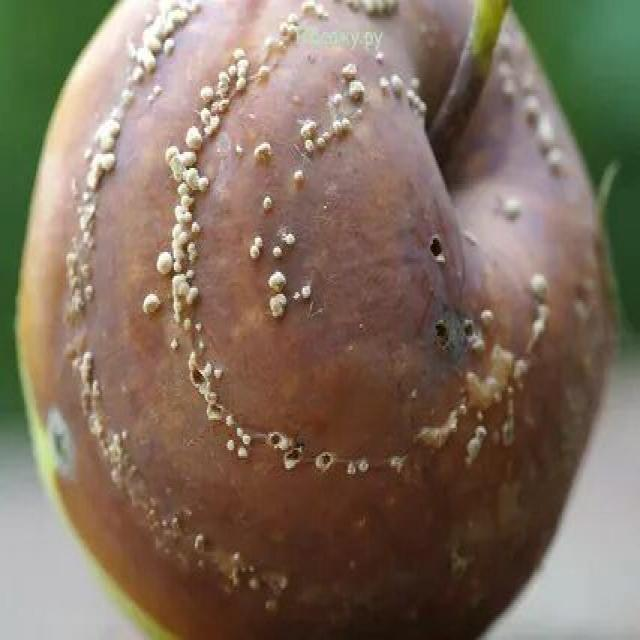Apple: (13, 0, 623, 640)
